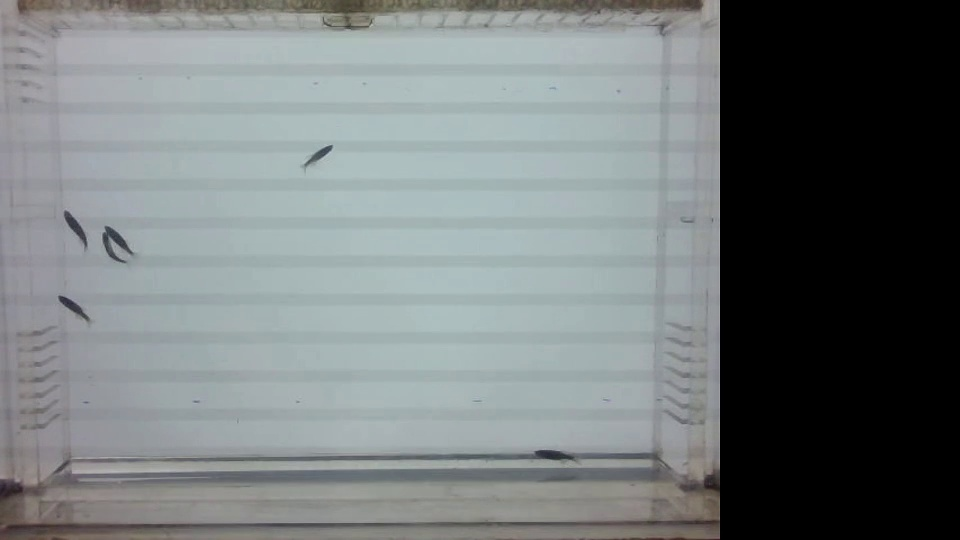fish: (50, 292, 100, 329), (524, 441, 580, 468), (100, 222, 140, 258), (57, 208, 85, 253), (297, 141, 334, 173), (92, 234, 124, 270)
